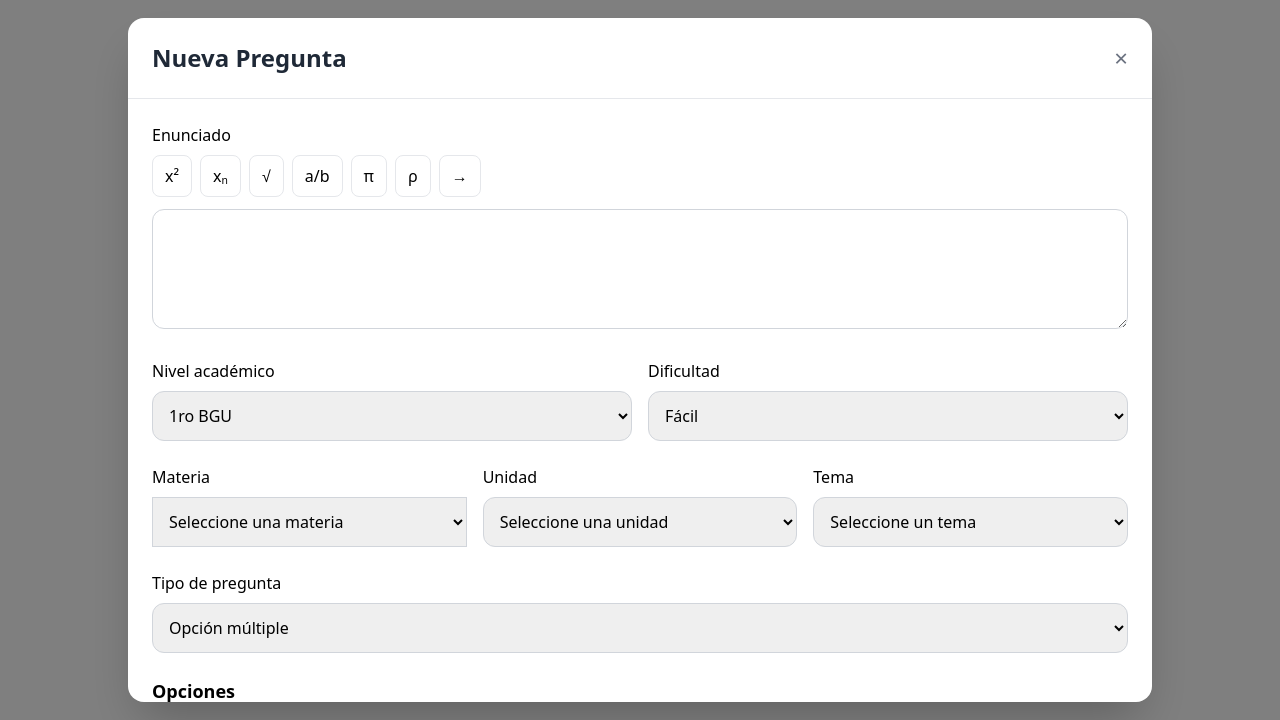
Test case: PreguntaModal › debe cambiar a respuesta corta
The image size is (1280, 720).
Select "Respuesta corta" in the dropdown named "tipoPregunta" below "Tipo de pregunta": (640, 628) [152,603,1128,653]
(page scrolled)
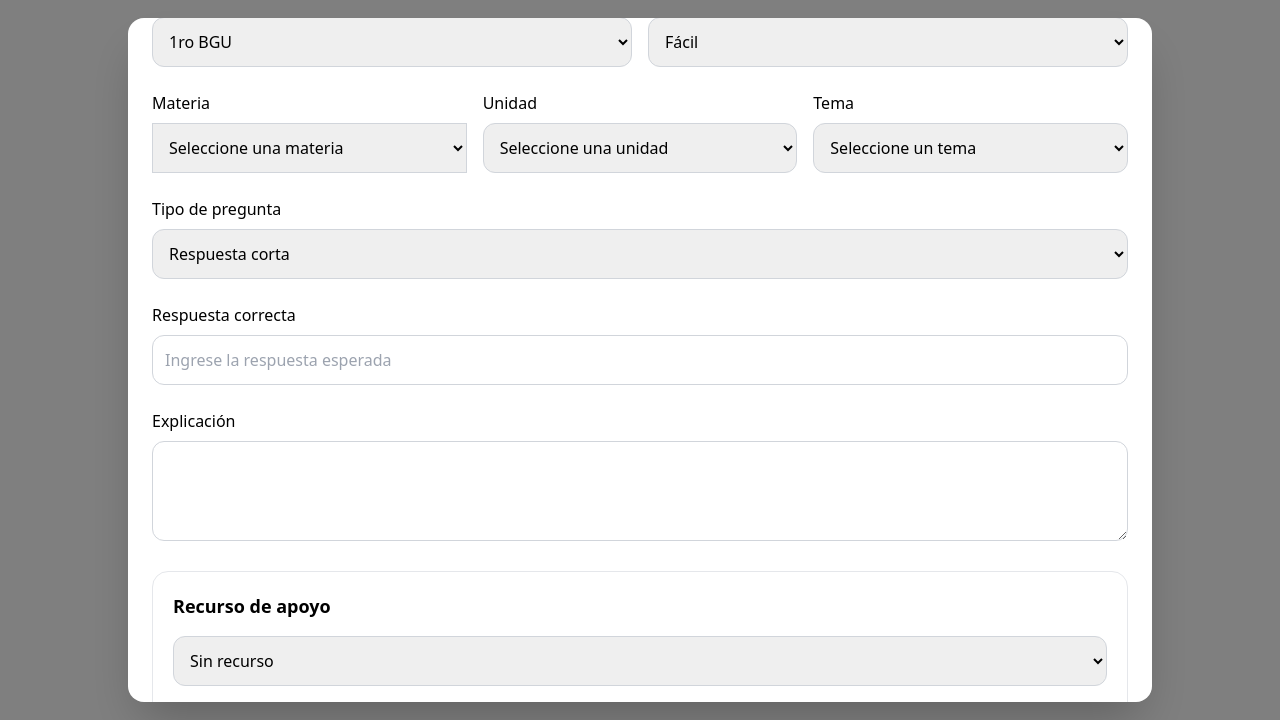
Result: the field with placeholder "Ingrese la respuesta esperada" is shown at [152,335,1128,385]
